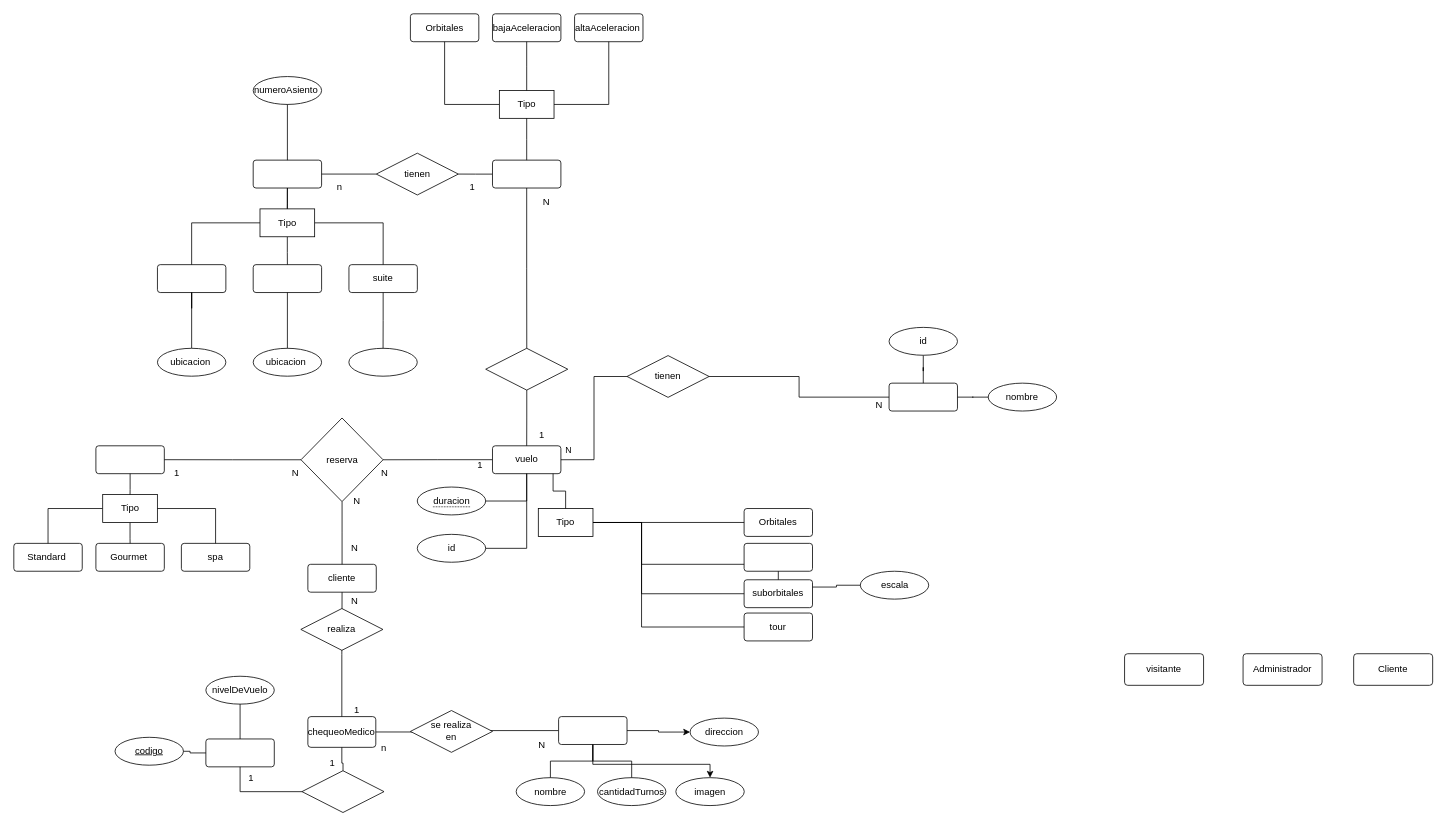
Image size: 1446x826. Some labels were removed from this diagram. The centre of each missing label's shape, as x and y in pixels:
Cabina: [287,173]
centrosMedicos: [592,730]
codigoLitera: [382,362]
codigoViajero: [239,752]
destinos: [922,396]
devuelve: [342,791]
EntreDestinos: [778,557]
Equipos: [526,173]
familiar: [287,278]
general: [191,278]
se le asigna: [526,369]
Servicio: [129,459]
